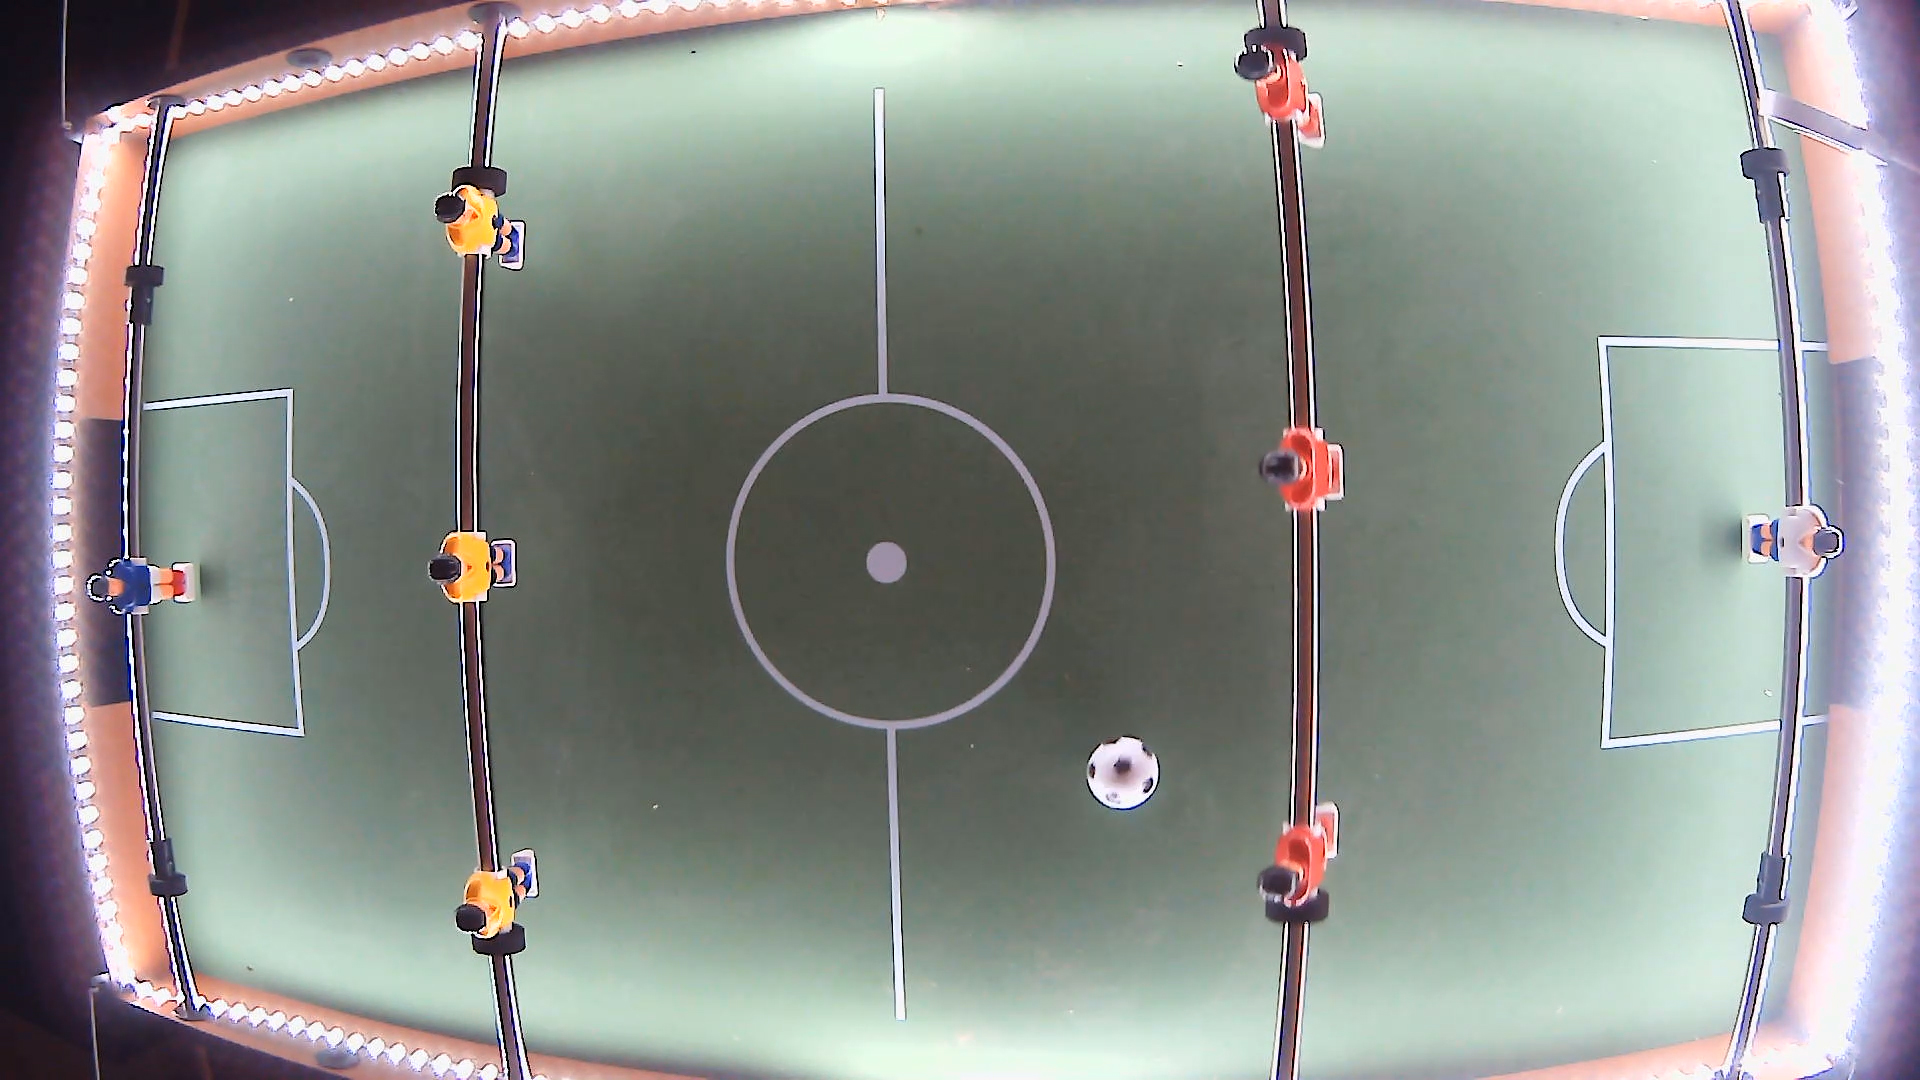Foosball: (1087, 736, 1159, 811)
